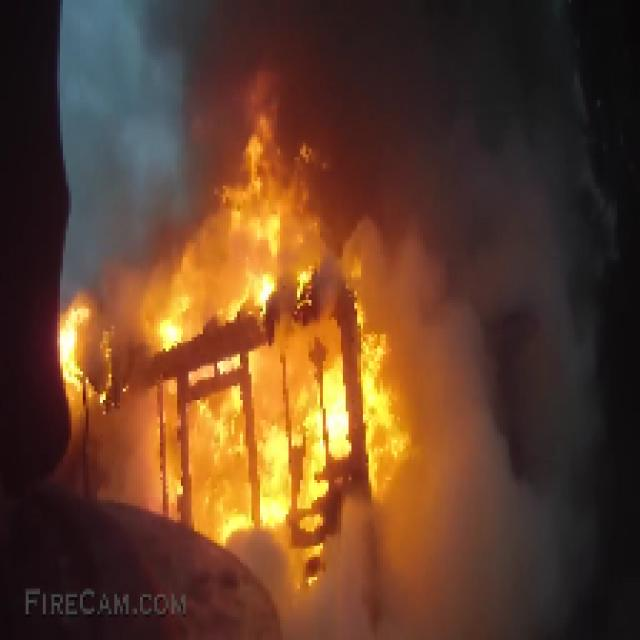fire: (124, 235, 371, 528)
smoke: (424, 307, 586, 617)
